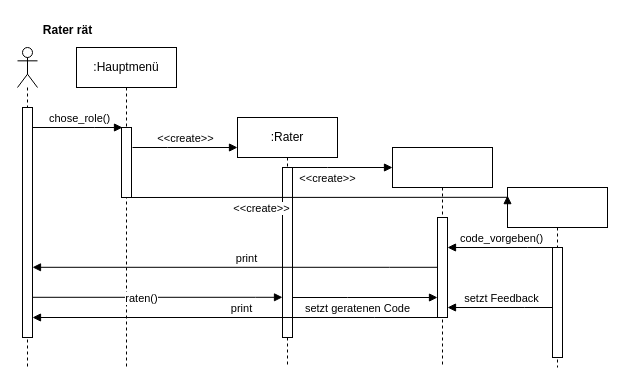
The diagram is 625 pixels wide and 385 high, and some of its shapes have lost their labels. The centre of each missing label's shape, as x and y in pixels:
:CoderNpc: (557,277)
:Spielbrett: (442,257)
